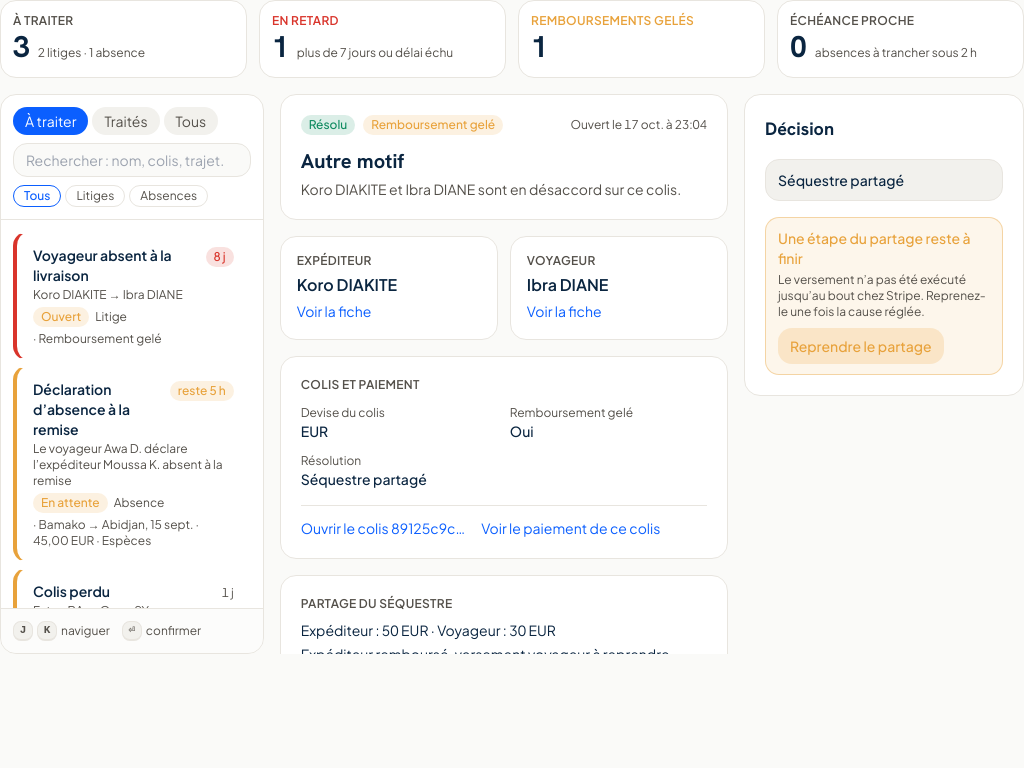
Test: pages/incidents › décisions sur un litige › reprise d’un partage interrompu : message de reprise
What coordinates should you click on to do the following:
click the button with test id "split-retry"
I would click on:
 (861, 346)
Its box is 778,328 -> 944,364.
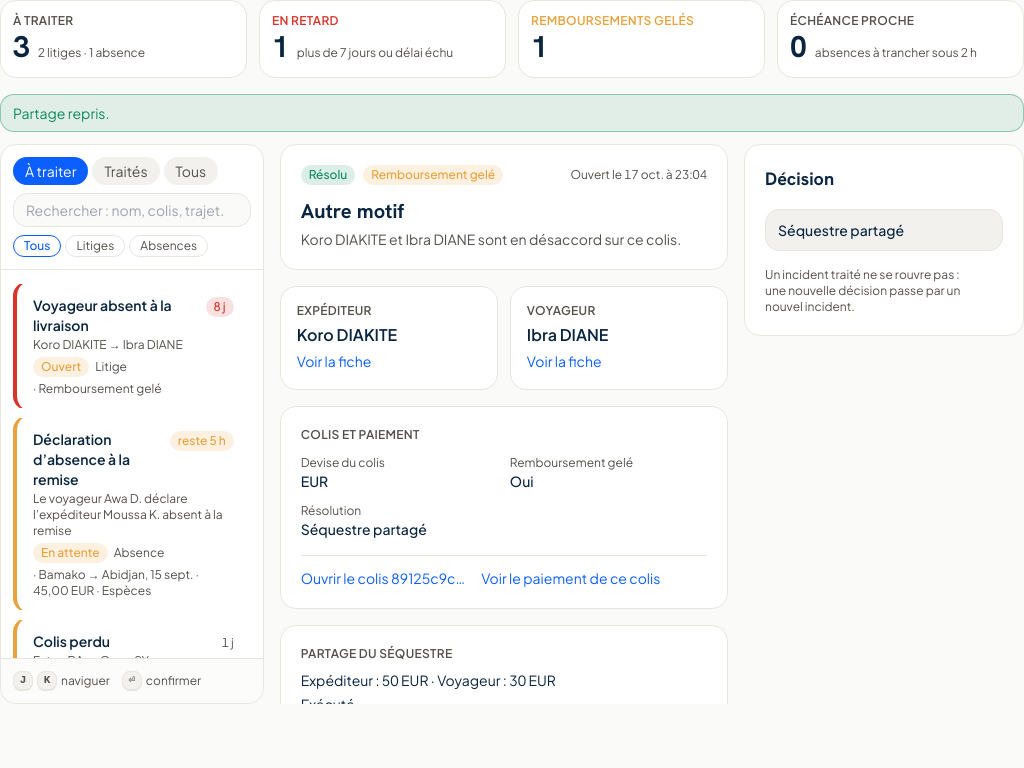
Result: the message with test id "incidents-done" reads "Partage repris." at 13,104 -> 110,122
